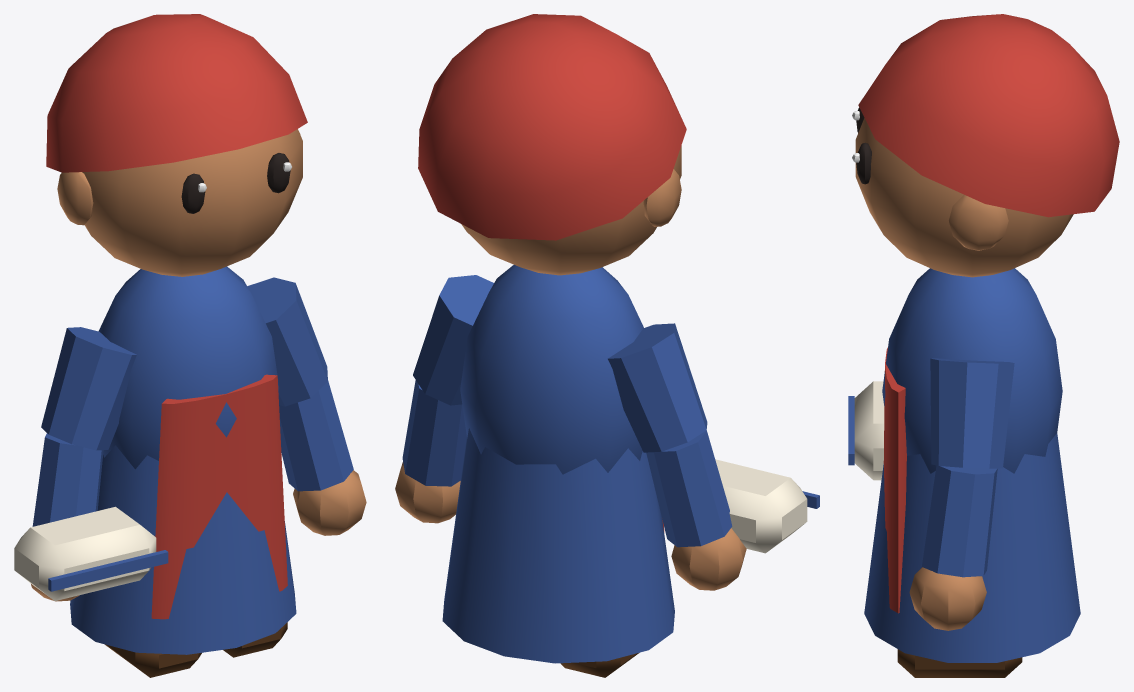
The model's file is CH_Staff_08_Hizmetci.fbx.
The picture shows the model from 3 angles, left to right: view 1: azimuth 30°, elevation 25°; view 2: azimuth 150°, elevation 25°; view 3: azimuth 270°, elevation 25°; orthographic projection. The views are drawn at different scales.
Visible parts, largest first — view 1: CH_Staff_08_Hizmetci; view 2: CH_Staff_08_Hizmetci; view 3: CH_Staff_08_Hizmetci.
Part boxes in pixels (x1,y1,x2,y2): CH_Staff_08_Hizmetci: (14, 14, 366, 677); CH_Staff_08_Hizmetci: (395, 14, 819, 677); CH_Staff_08_Hizmetci: (848, 14, 1119, 677).
Bounding box in the file's own units: 0.6772 × 1.1 × 0.4347.
